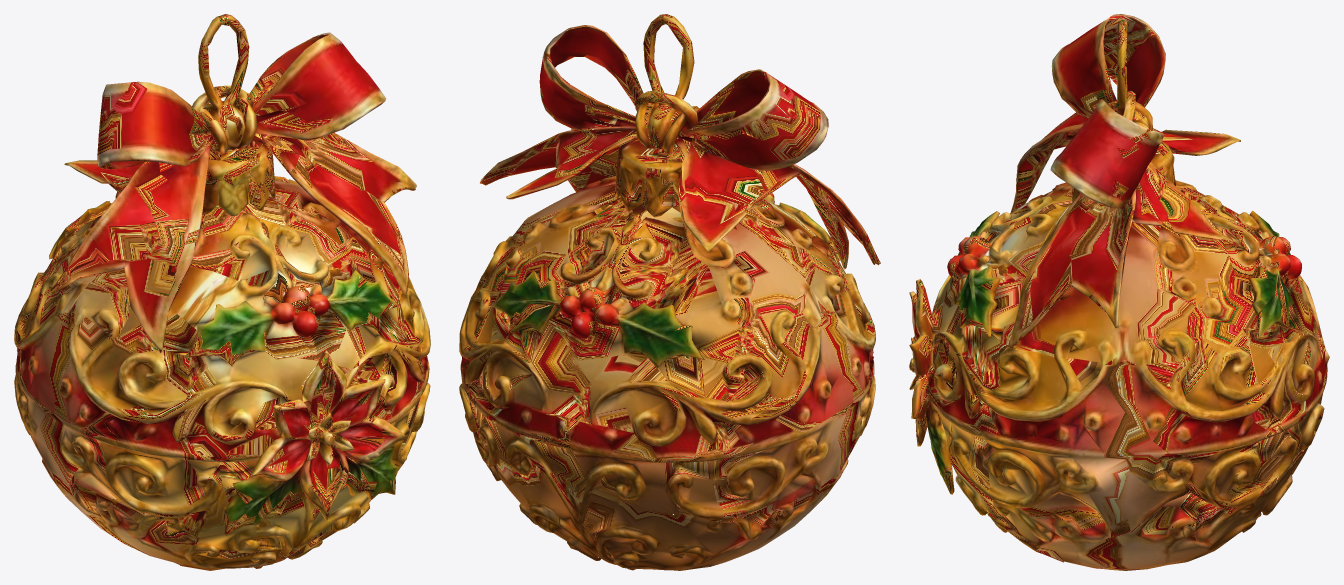
Rendered from ball-gold.glb.
3 views of the same model, side by side, from view 1: azimuth 30°, elevation 25°; view 2: azimuth 150°, elevation 25°; view 3: azimuth 270°, elevation 25° (orthographic).
Parts seen in each view (by area): view 1: tripo_node_228a17c2-fb5b-462e-a1cb-9ad22030d513; view 2: tripo_node_228a17c2-fb5b-462e-a1cb-9ad22030d513; view 3: tripo_node_228a17c2-fb5b-462e-a1cb-9ad22030d513.
Boxes of the visible parts, box(x1,y1,x2,y2) form: tripo_node_228a17c2-fb5b-462e-a1cb-9ad22030d513: box(14, 14, 430, 570); tripo_node_228a17c2-fb5b-462e-a1cb-9ad22030d513: box(459, 14, 880, 570); tripo_node_228a17c2-fb5b-462e-a1cb-9ad22030d513: box(909, 14, 1329, 570).
Size of the model in its own units: 0.7346 by 0.9775 by 0.7053.
1 material, 1 textured.
